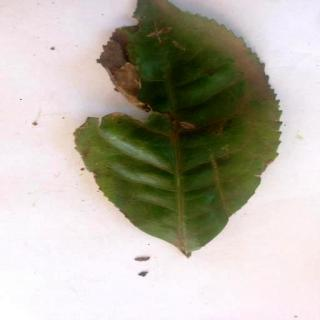Brown Blight: (77, 1, 284, 257)
